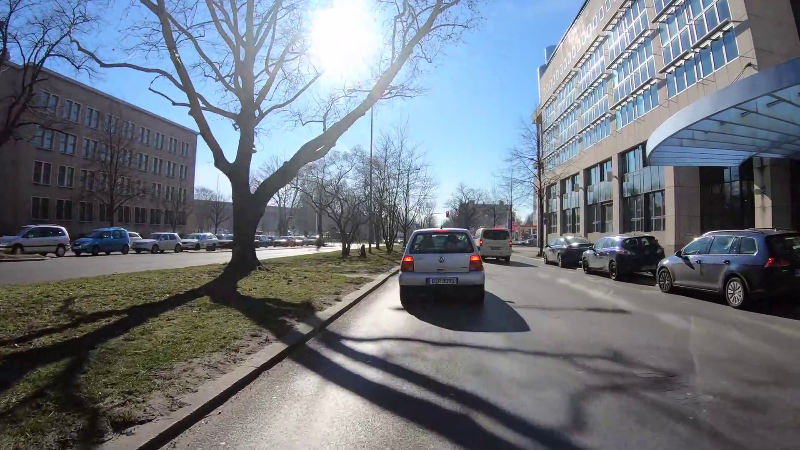Plate: (424, 276, 456, 285), (639, 263, 657, 271), (489, 245, 503, 250)
